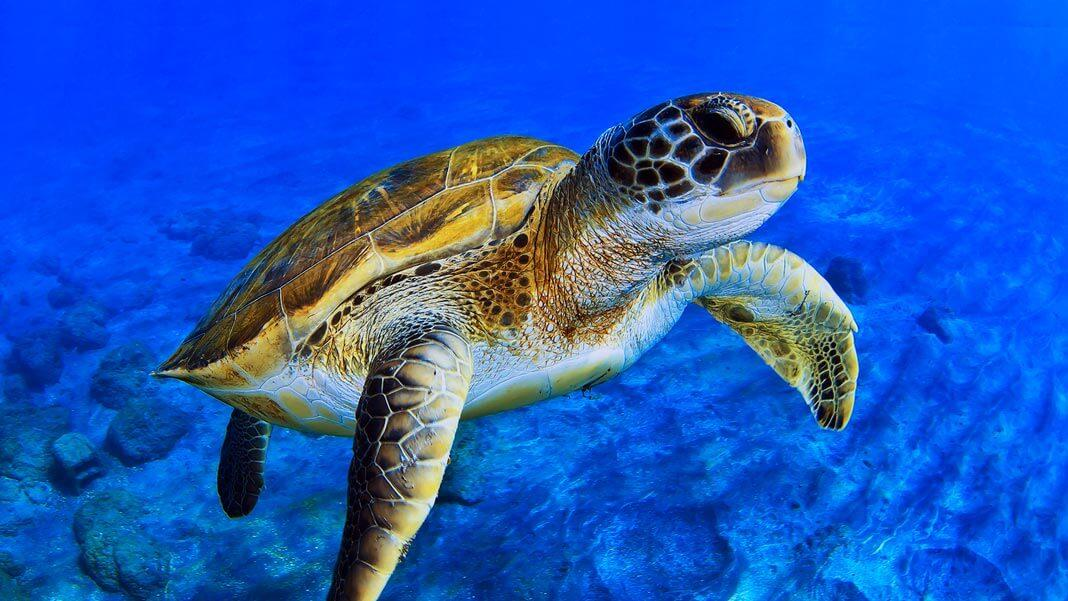turtle: (597, 80, 814, 248)
